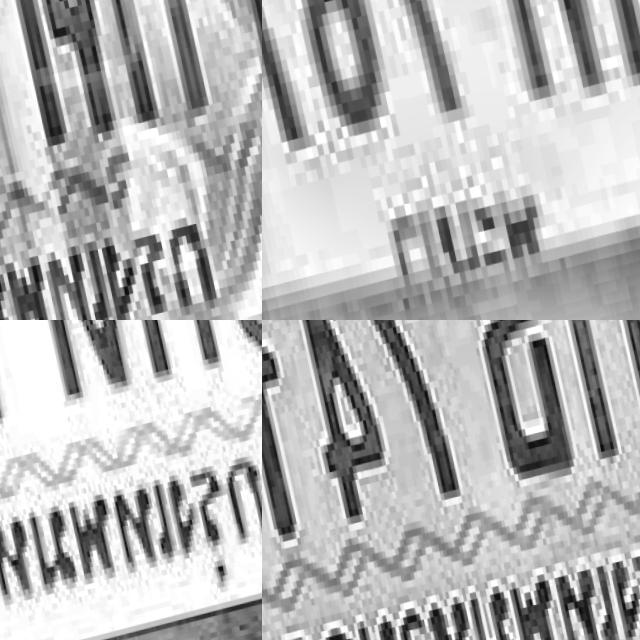license-plate: (262, 0, 640, 320), (262, 320, 640, 640), (0, 0, 262, 320), (0, 320, 262, 640)
